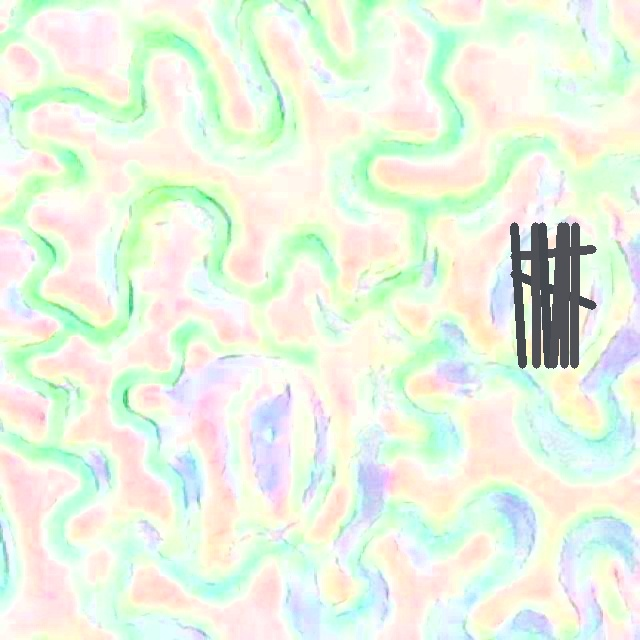close: (510, 223, 596, 367)
